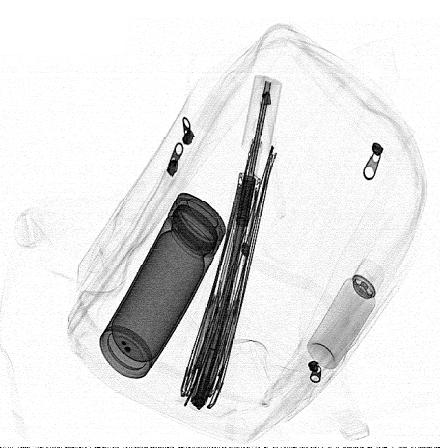Sprayer: (307, 257, 384, 369)
